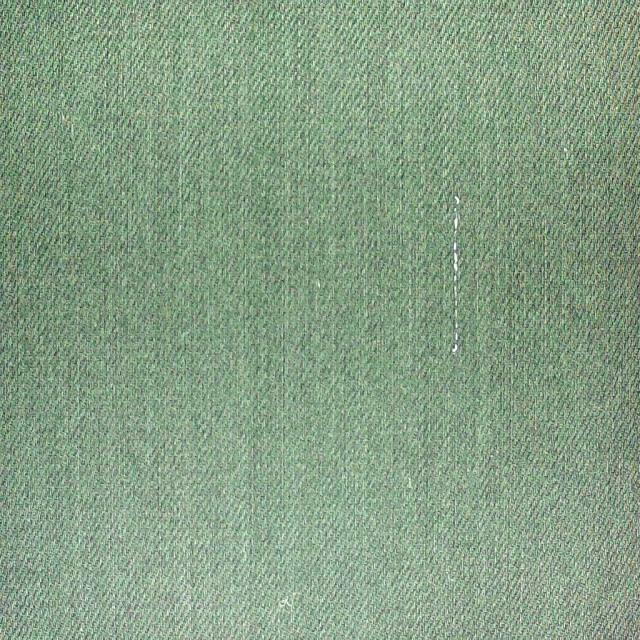pulled_or_thick_thread: (447, 191, 468, 373)
